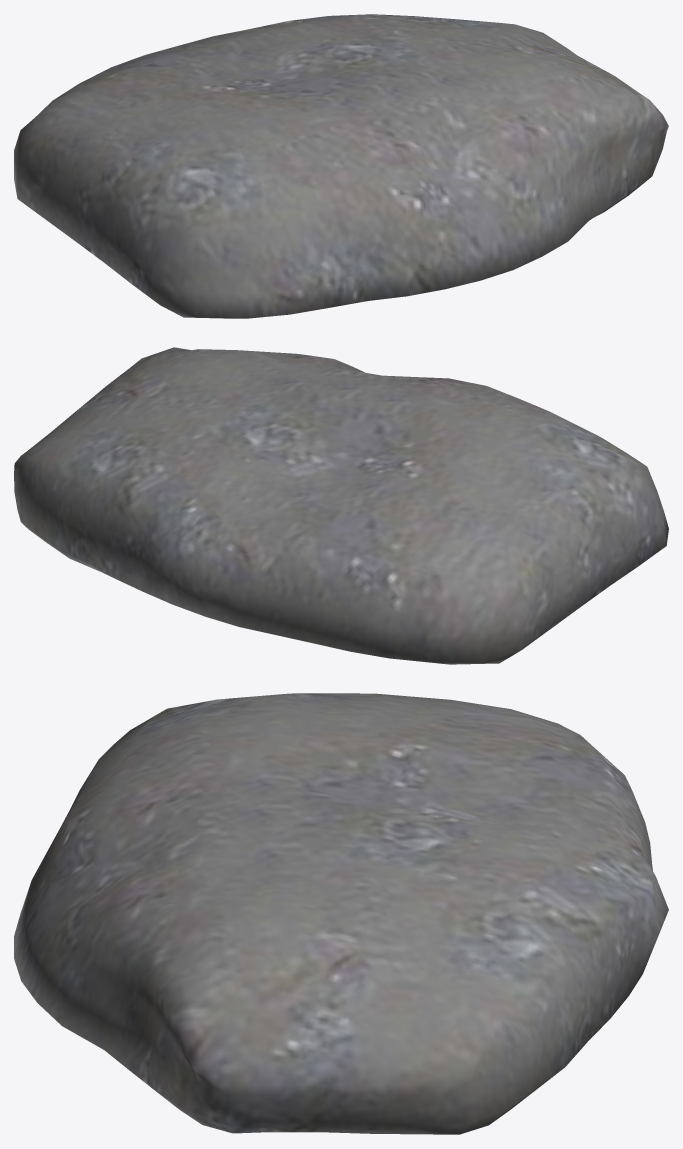
File: SM_Sun_Pal_Stone_B.fbx
3 renders of one model, top to bottom at view 1: azimuth 30°, elevation 25°; view 2: azimuth 150°, elevation 25°; view 3: azimuth 270°, elevation 25°, orthographic. The views are drawn at different scales.
Visible parts, largest first — view 1: SM_Sun_Pal_Stone_B; view 2: SM_Sun_Pal_Stone_B; view 3: SM_Sun_Pal_Stone_B.
Part boxes in pixels (left/top/right/bottom): SM_Sun_Pal_Stone_B: left=14, top=14, right=668, bottom=318; SM_Sun_Pal_Stone_B: left=14, top=347, right=668, bottom=664; SM_Sun_Pal_Stone_B: left=14, top=693, right=668, bottom=1134.
Bounding box in the file's own units: 108 × 25.57 × 89.17.
